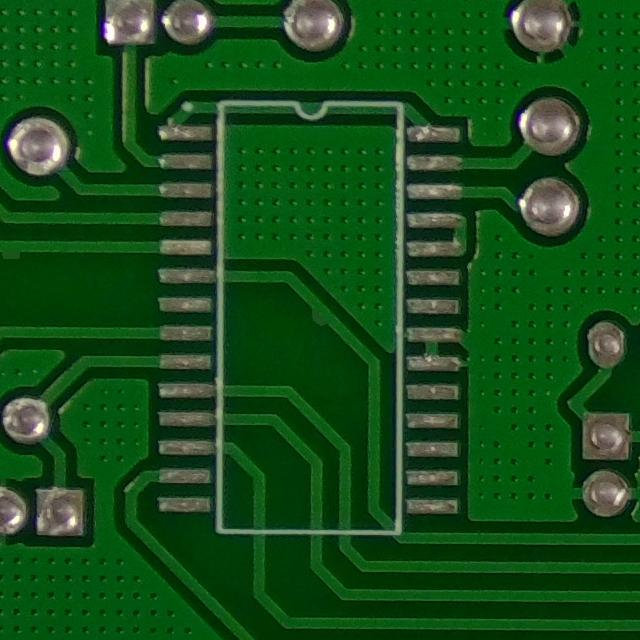spur: (298, 298, 343, 342)
